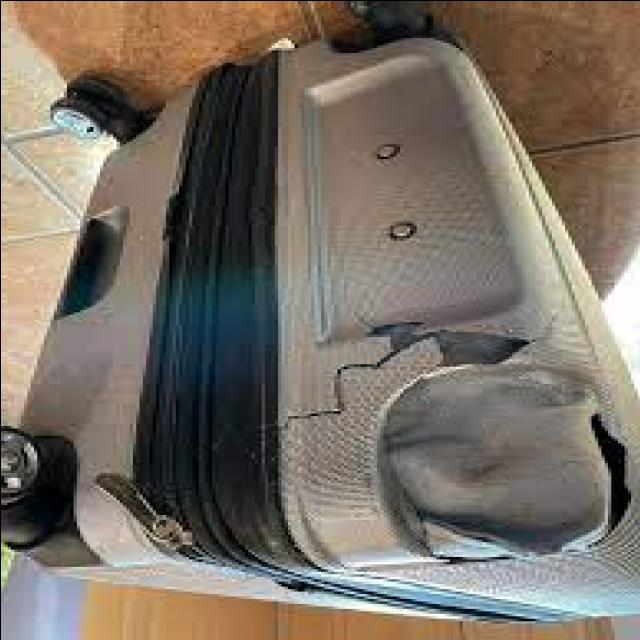Damage-bag: (275, 319, 630, 564)
